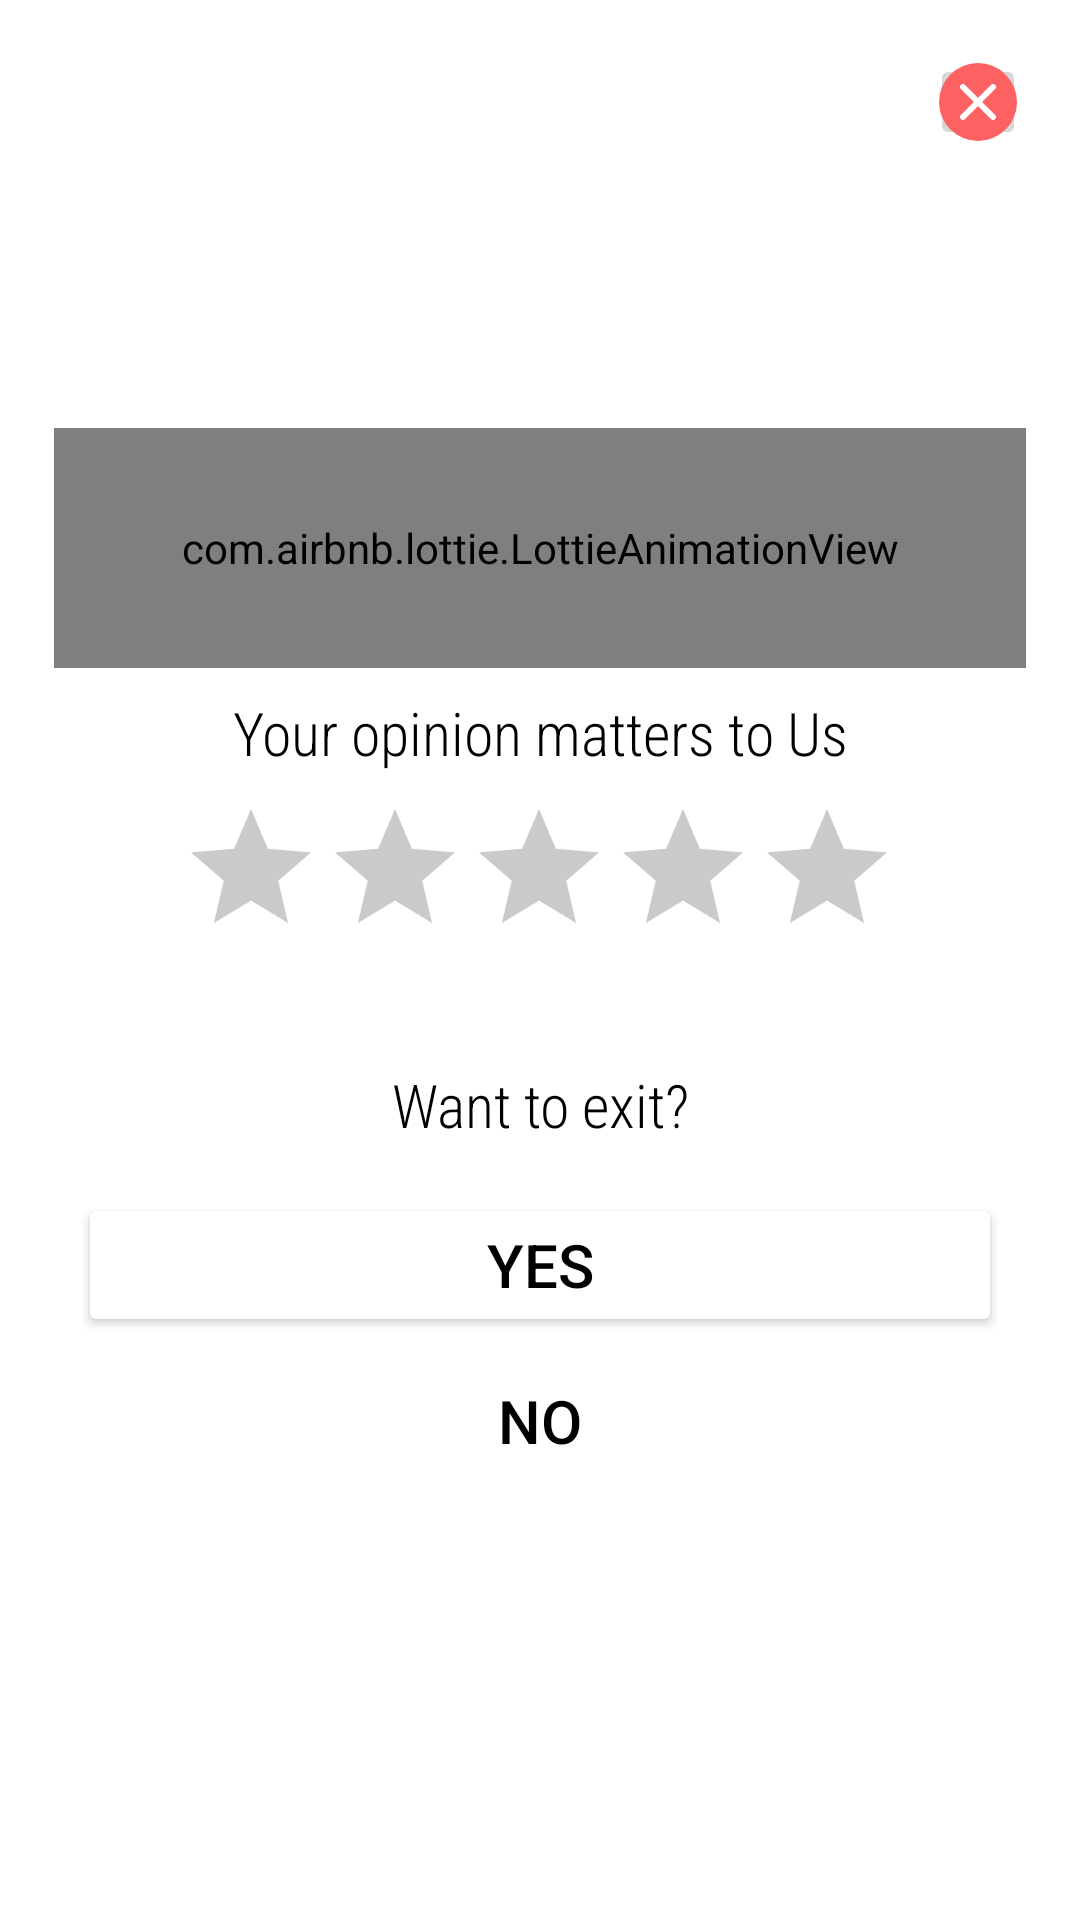

Named icons in this screenshot (1080px x 1920px) and their bounding boxes, [x1=x1, y1=y1, x2=x2, y2=y2]:
cancel: [x1=939, y1=63, x2=1017, y2=141]
